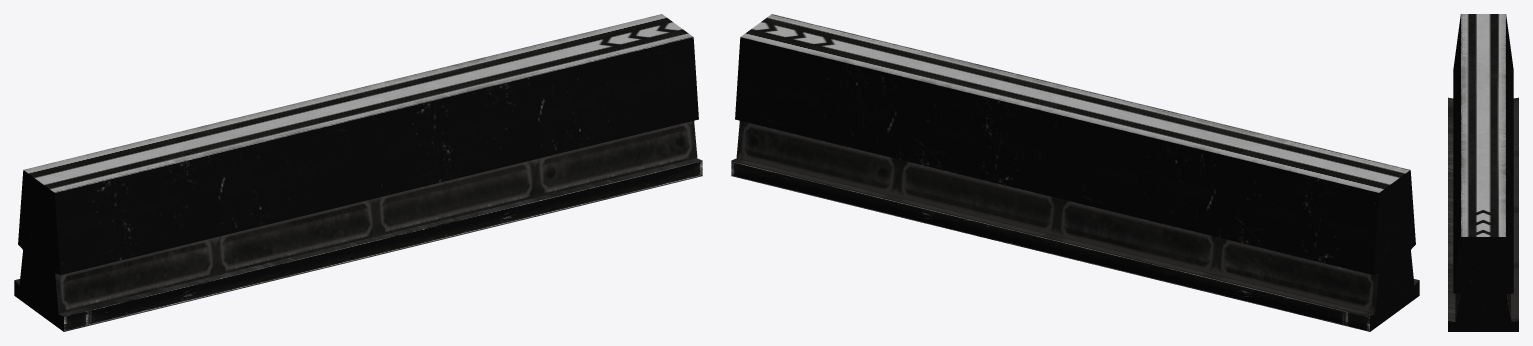
The model's file is SM_Monorail_A.FBX.
3 views of the same model, side by side, from view 1: azimuth 30°, elevation 25°; view 2: azimuth 150°, elevation 25°; view 3: azimuth 270°, elevation 25° (orthographic). The views are drawn at different scales.
Visible parts, largest first — view 1: SM_Monorail; view 2: SM_Monorail; view 3: SM_Monorail.
Boxes of the visible parts, x1,y1,x2,y2 form: SM_Monorail: [14, 14, 702, 331]; SM_Monorail: [731, 14, 1419, 331]; SM_Monorail: [1448, 14, 1518, 331].
Size of the model in its own units: 800 by 159 by 107.
Materials: 1 (1 with a texture image).
